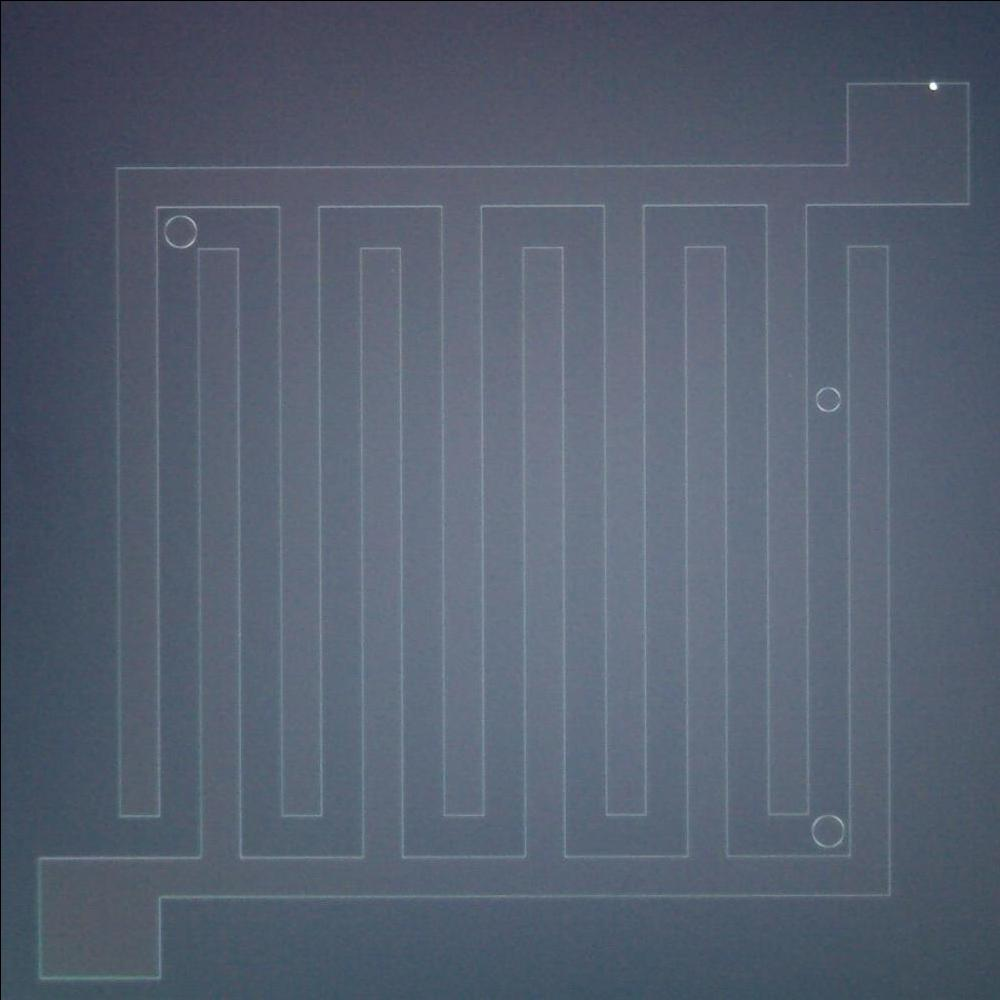circle: (806, 808, 851, 851), (156, 209, 199, 252), (808, 382, 848, 413)
spot: (923, 75, 944, 94)
